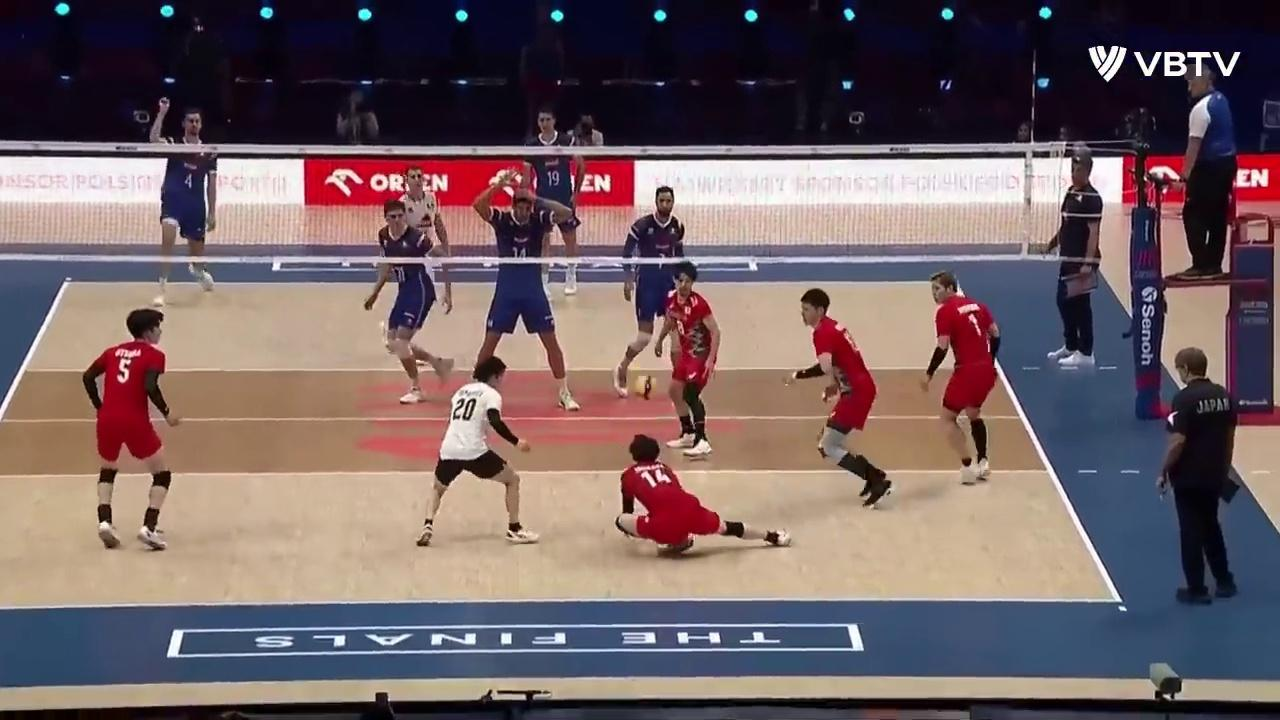ball: (633, 374, 658, 400)
